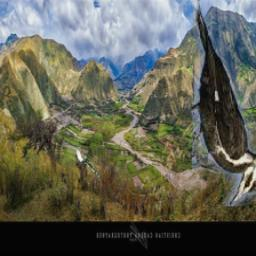Cuckoo: (74, 147, 102, 180)
Woodpecker: (191, 0, 256, 206)
